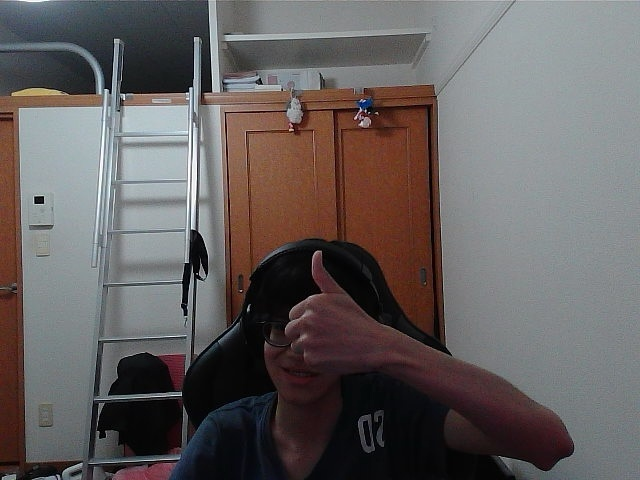thumb_up: (291, 258, 378, 360)
